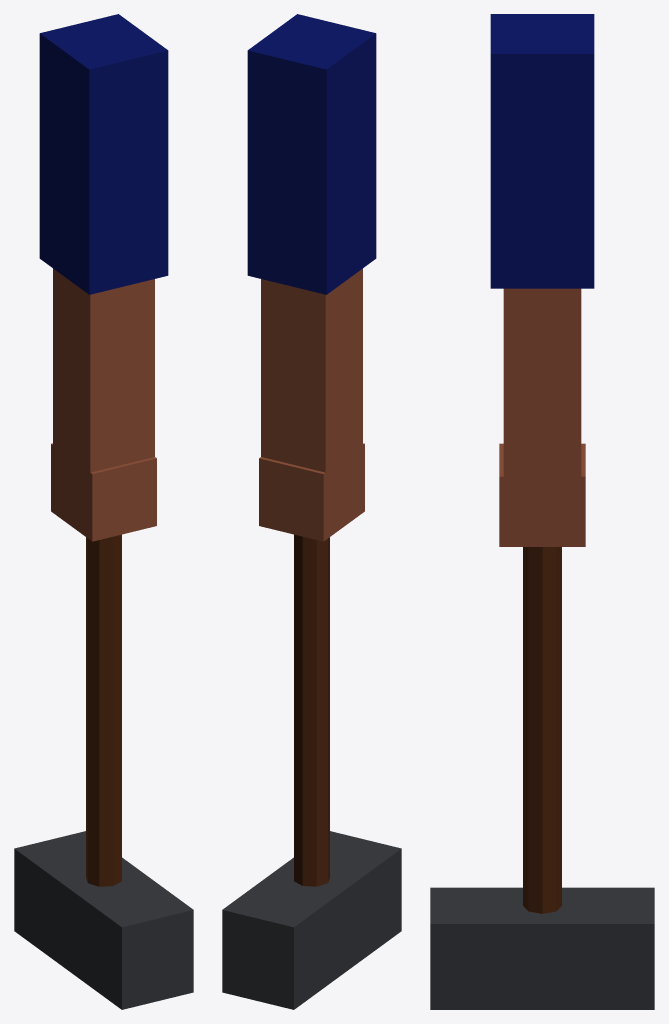
Rendered from obrero_unam_brazo.obj.
The picture shows the model from 3 angles, left to right: view 1: azimuth 30°, elevation 25°; view 2: azimuth 150°, elevation 25°; view 3: azimuth 270°, elevation 25°; orthographic projection. The views are drawn at different scales.
Parts seen in each view (by area): view 1: obrero_unam_brazo.001; view 2: obrero_unam_brazo.001; view 3: obrero_unam_brazo.001.
Boxes of the visible parts, left/top/right/bottom form: obrero_unam_brazo.001: left=14, top=14, right=193, bottom=1009; obrero_unam_brazo.001: left=222, top=14, right=401, bottom=1009; obrero_unam_brazo.001: left=430, top=14, right=654, bottom=1009.
Bounding box in the file's own units: 0.11 × 1.23 × 0.26.
